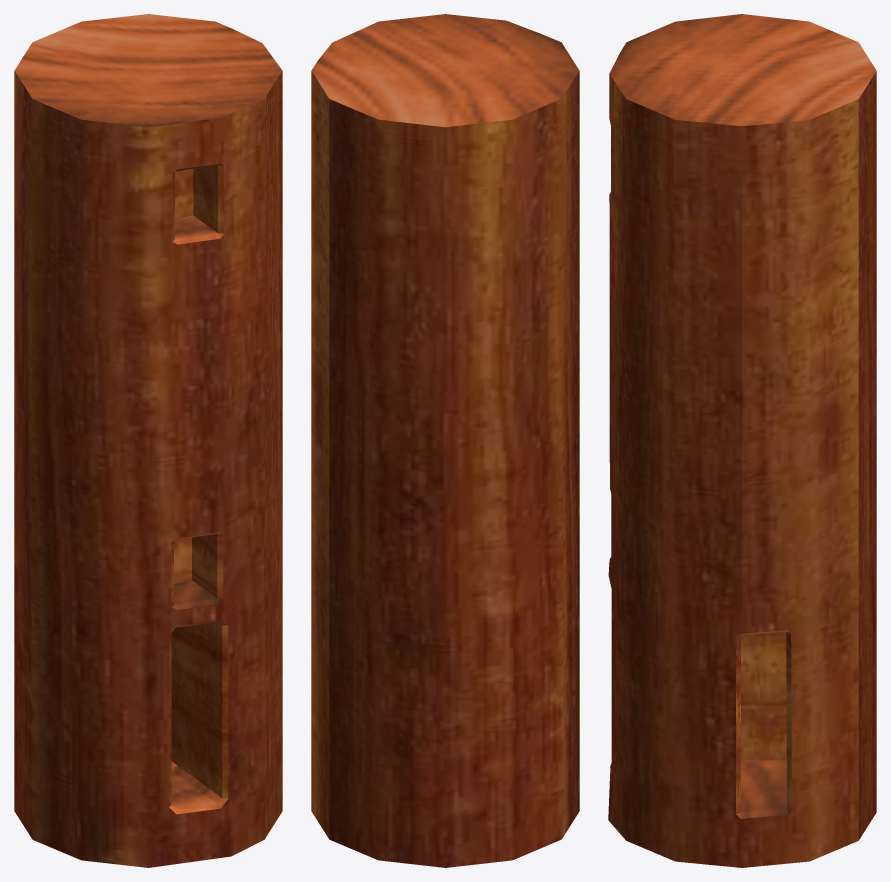
File: SJ_J_tui_04.FBX
The picture shows the model from 3 angles, left to right: view 1: azimuth 30°, elevation 25°; view 2: azimuth 150°, elevation 25°; view 3: azimuth 270°, elevation 25°; orthographic projection.
Visible parts, largest first — view 1: SJ_J_tui_04; view 2: SJ_J_tui_04; view 3: SJ_J_tui_04.
Boxes of the visible parts, x1,y1,x2,y2 form: SJ_J_tui_04: (14, 14, 282, 867); SJ_J_tui_04: (311, 14, 579, 867); SJ_J_tui_04: (608, 14, 876, 867).
Bounding box in the file's own units: 4 × 12.31 × 4.04.
Materials: 2 (2 with a texture image).
